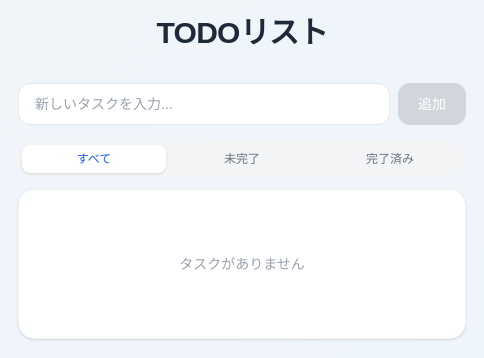
Scenario: TodoApp › localStorage › TODOを追加するとlocalStorageに保存される
Expected: the heading "TODOリスト" is shown, 157,16 -> 328,49
Type "新しいタスク" into the field with placeholder "新しいタスクを入力...".
click(204, 104); type("新しいタスク")  # box 18,83 -> 390,125
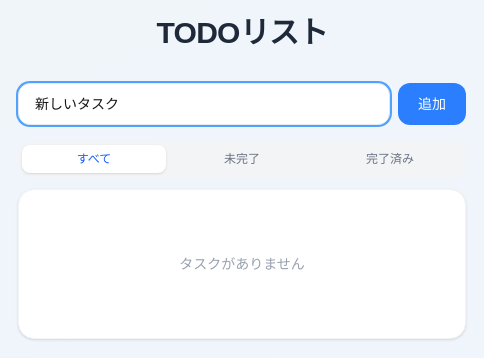
Click the button "追加".
click(432, 104)  # box 398,83 -> 466,125
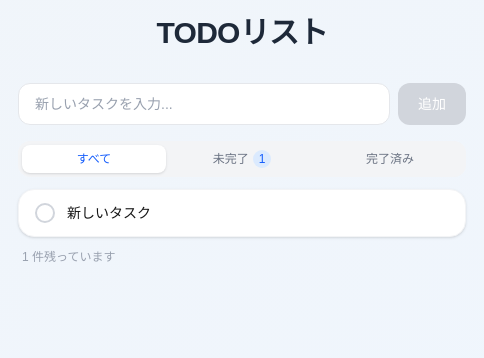
Expected: the text "新しいタスク" is shown, 67,205 -> 151,221
